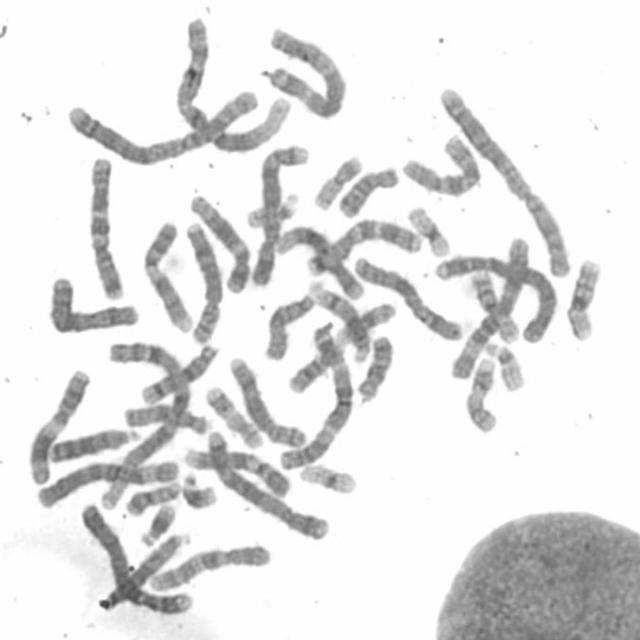A1: (94, 328, 195, 516), (171, 9, 293, 154)
A2: (434, 78, 577, 279), (62, 79, 270, 167)
A3: (276, 318, 358, 473), (262, 19, 351, 120)
B4: (77, 496, 198, 619), (429, 243, 562, 346)
B5: (199, 424, 332, 543), (245, 135, 312, 288)
C10: (145, 537, 275, 593), (396, 126, 488, 198)
C11: (284, 295, 401, 395), (23, 361, 95, 487)
C12: (271, 217, 368, 302), (185, 187, 255, 295)
C6: (445, 230, 536, 382), (31, 450, 185, 511)
C7: (302, 211, 425, 277), (83, 147, 130, 302)
C8: (225, 349, 310, 449), (180, 214, 227, 346)
C9: (137, 214, 197, 334), (180, 437, 296, 498)
D13: (94, 524, 196, 612), (43, 419, 144, 465)
D14: (305, 274, 375, 365), (135, 335, 224, 405)
D15: (260, 285, 319, 362), (118, 400, 214, 440)
E16: (466, 264, 524, 344), (562, 250, 606, 341)
E17: (200, 378, 268, 450), (461, 349, 502, 435)
E18: (334, 158, 404, 219), (353, 328, 397, 403)
F19: (404, 199, 454, 258), (296, 455, 362, 497)
F20: (310, 147, 368, 211), (122, 473, 184, 518)
G21: (136, 496, 180, 547), (177, 465, 221, 511)
G22: (480, 334, 529, 392), (242, 187, 303, 229)
X: (348, 249, 466, 342), (42, 268, 144, 335)
